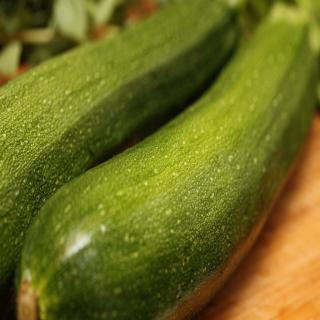Cucumber: (0, 0, 248, 298)
